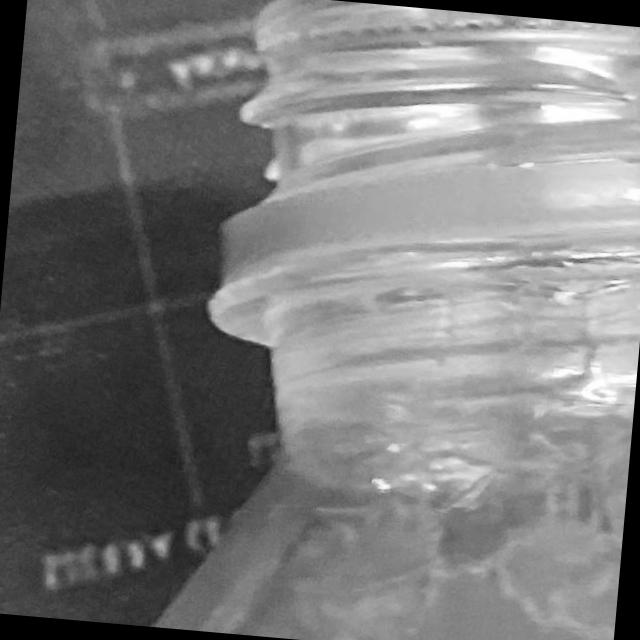open-cap: (200, 0, 640, 299)
